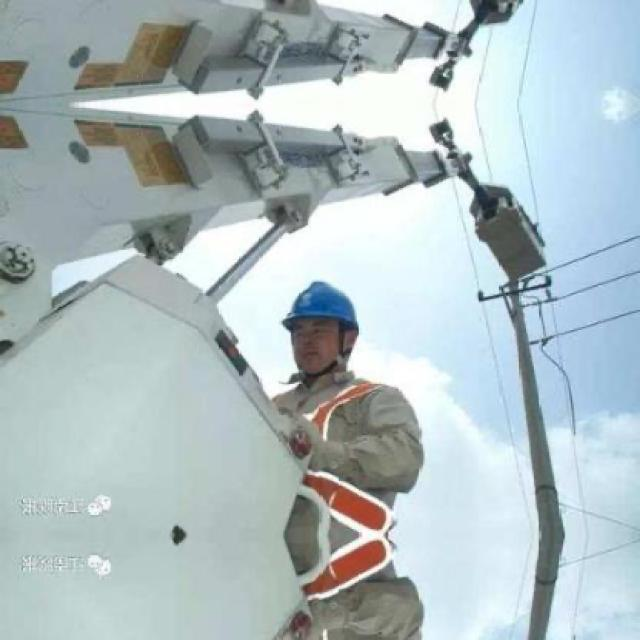con casco: (276, 274, 390, 384)
